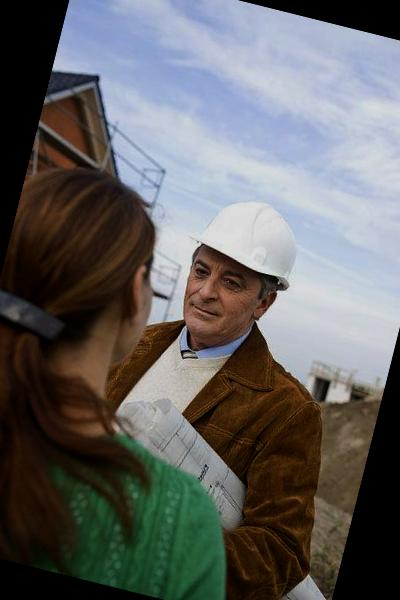no_helmet: (0, 151, 185, 416)
